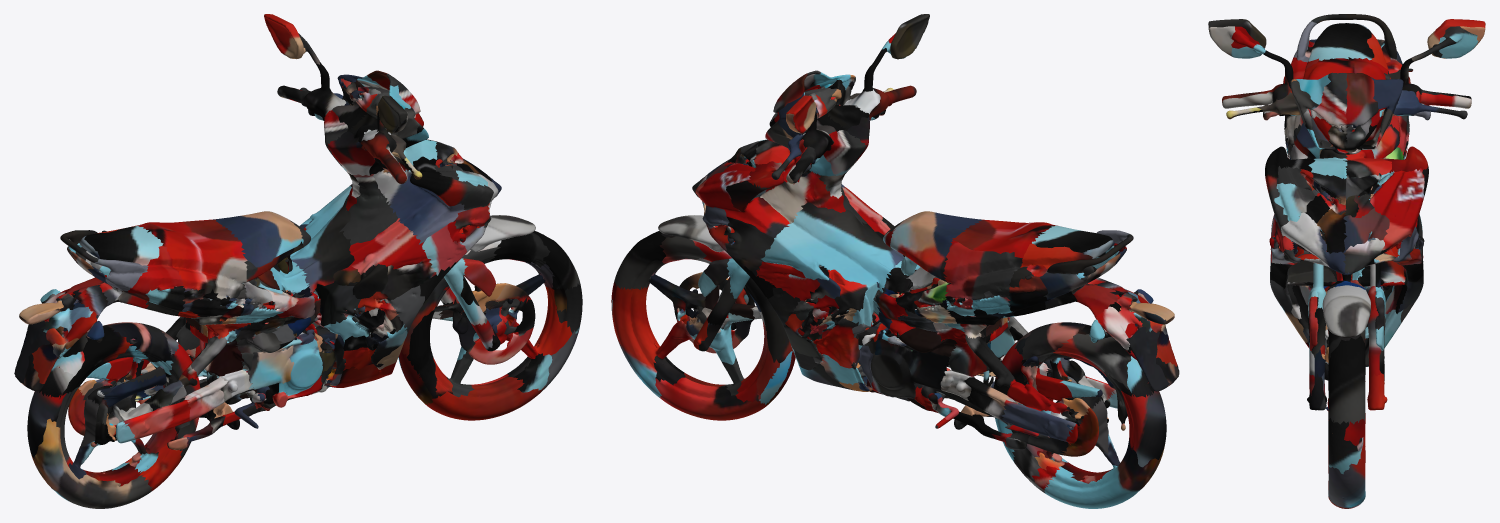
3 views of the same model, side by side, from view 1: azimuth 30°, elevation 25°; view 2: azimuth 150°, elevation 25°; view 3: azimuth 270°, elevation 25° (orthographic). The views are drawn at different scales.
Visible parts, largest first — view 1: tripo_node_94bd82a2-c70c-4c7c-ab0e-fe6b84e7c481; view 2: tripo_node_94bd82a2-c70c-4c7c-ab0e-fe6b84e7c481; view 3: tripo_node_94bd82a2-c70c-4c7c-ab0e-fe6b84e7c481.
Boxes of the visible parts, x1=… form: tripo_node_94bd82a2-c70c-4c7c-ab0e-fe6b84e7c481: x1=14, y1=14, x2=582, y2=508; tripo_node_94bd82a2-c70c-4c7c-ab0e-fe6b84e7c481: x1=611, y1=14, x2=1179, y2=508; tripo_node_94bd82a2-c70c-4c7c-ab0e-fe6b84e7c481: x1=1208, y1=14, x2=1485, y2=508.
Size of the model in its own units: 100 by 67.62 by 42.18.
